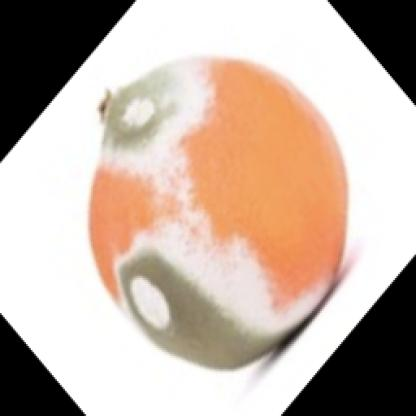rotten: (87, 54, 346, 371)
